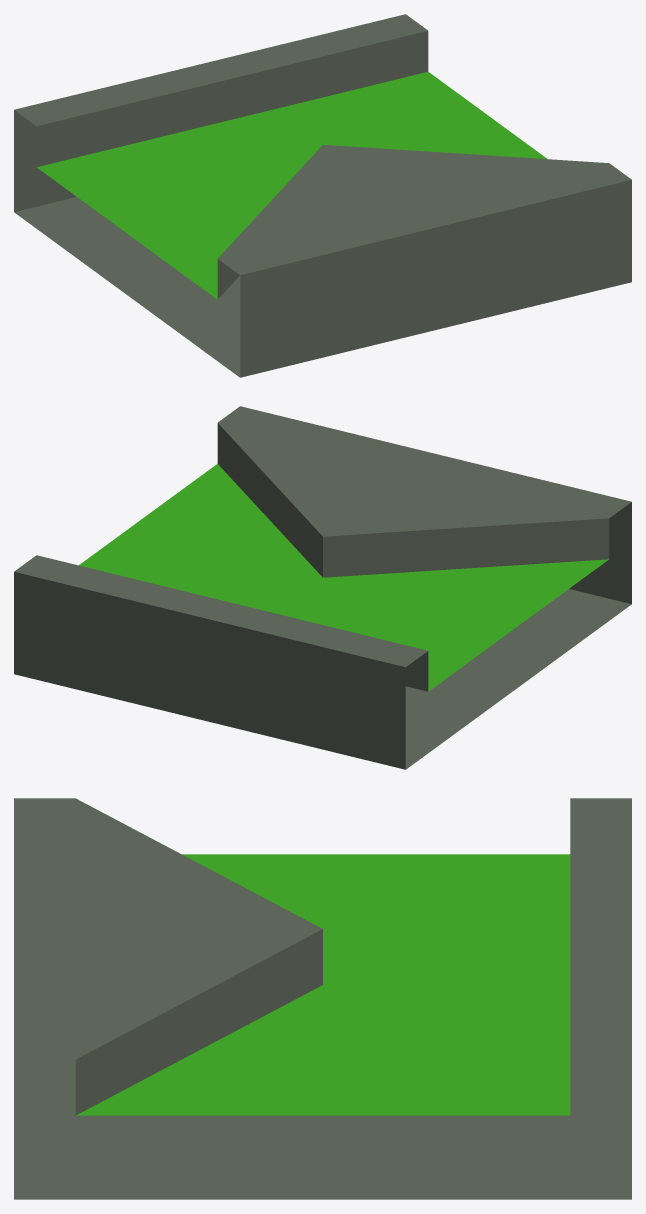
The model's file is StraightSideTri.fbx.
3 renders of one model, top to bottom at view 1: azimuth 30°, elevation 25°; view 2: azimuth 150°, elevation 25°; view 3: azimuth 270°, elevation 25°, orthographic. The views are drawn at different scales.
Visible parts, largest first — view 1: StraightSideTri; view 2: StraightSideTri; view 3: StraightSideTri.
Part boxes in pixels (x1,y1,x2,y2): StraightSideTri: (14, 14, 631, 377); StraightSideTri: (14, 406, 631, 769); StraightSideTri: (14, 798, 631, 1199).
Bounding box in the file's own units: 200 × 50 × 200.
